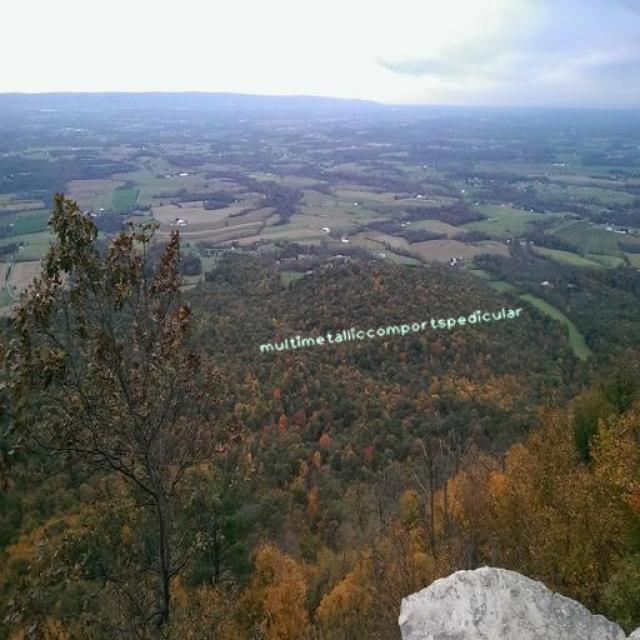watermark: (256, 304, 524, 354)
